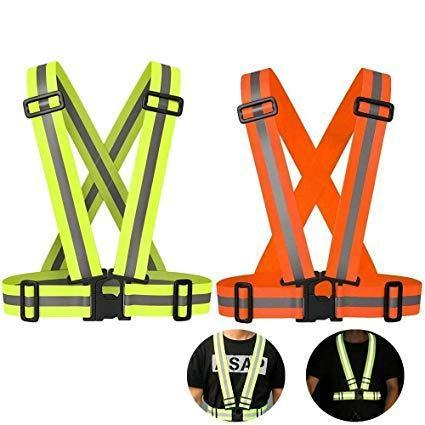vest: (2, 57, 214, 324), (213, 64, 422, 322)
